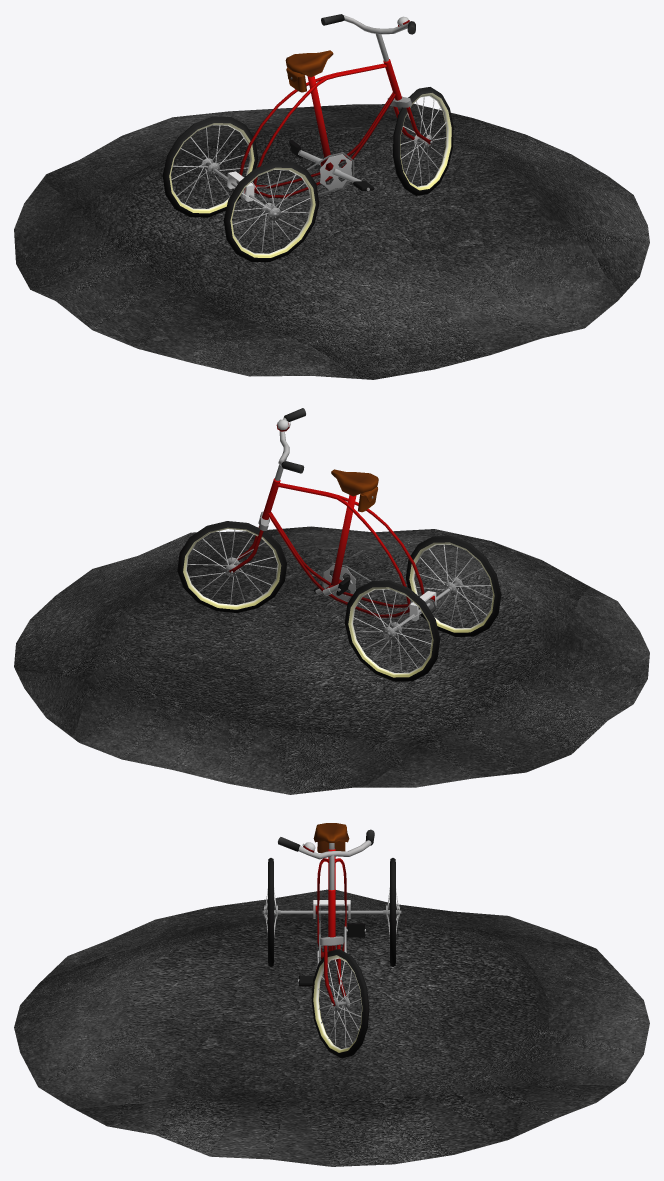
File: bicycle_3269b839.glb
The picture shows the model from 3 angles, top to bottom: view 1: azimuth 30°, elevation 25°; view 2: azimuth 150°, elevation 25°; view 3: azimuth 270°, elevation 25°; orthographic projection.
Visible parts, largest first — view 1: asphalt, Veterok; view 2: asphalt, Veterok; view 3: asphalt, Veterok.
Boxes of the visible parts, x1,y1,x2,y2 form: asphalt: [14, 103, 649, 379]; Veterok: [162, 14, 453, 262]; asphalt: [14, 526, 649, 794]; Veterok: [177, 408, 501, 681]; asphalt: [14, 889, 649, 1166]; Veterok: [262, 823, 401, 1058].
Bounding box in the file's own units: 200 × 78.09 × 200.
Materials: 2 (2 with a texture image).
